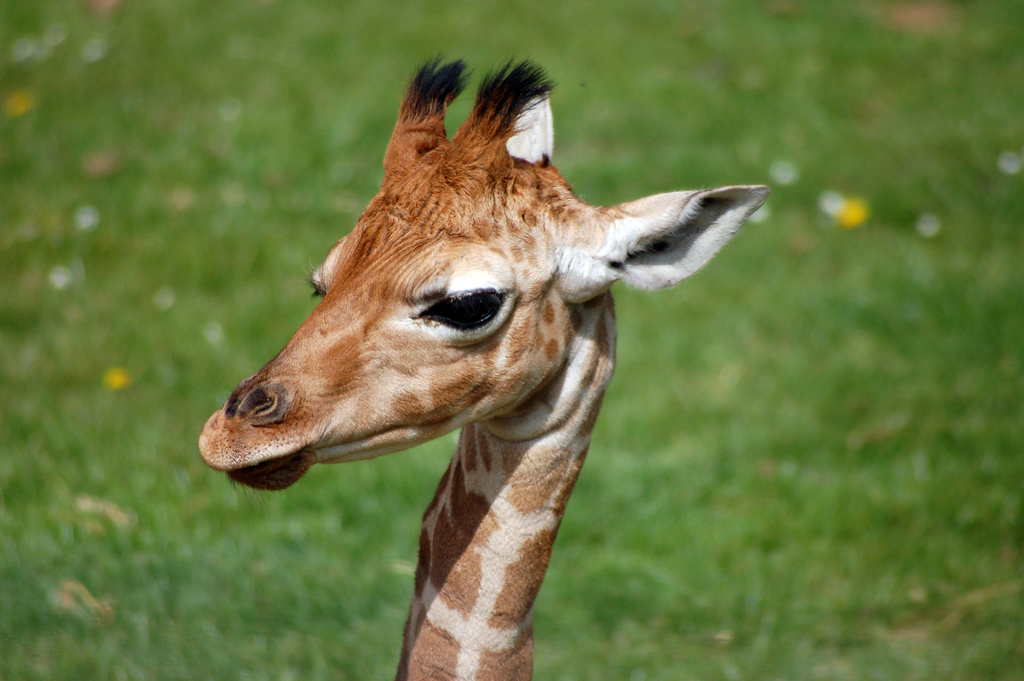giraffe: (214, 48, 726, 619)
